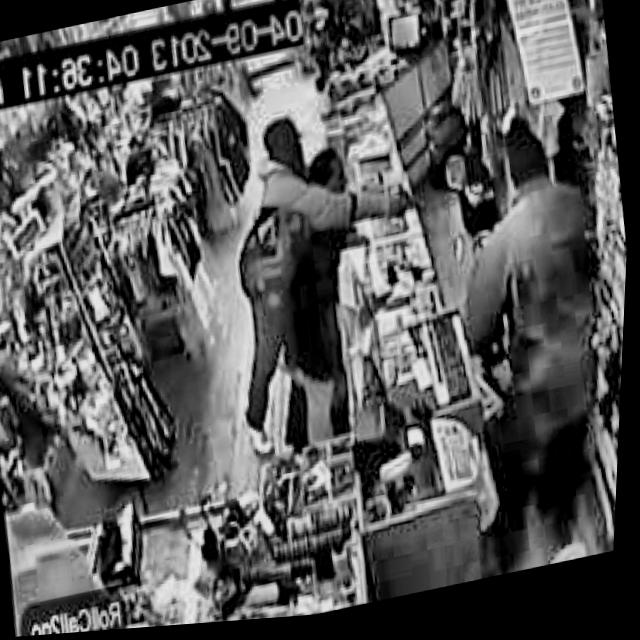robbery: (200, 94, 459, 474)
